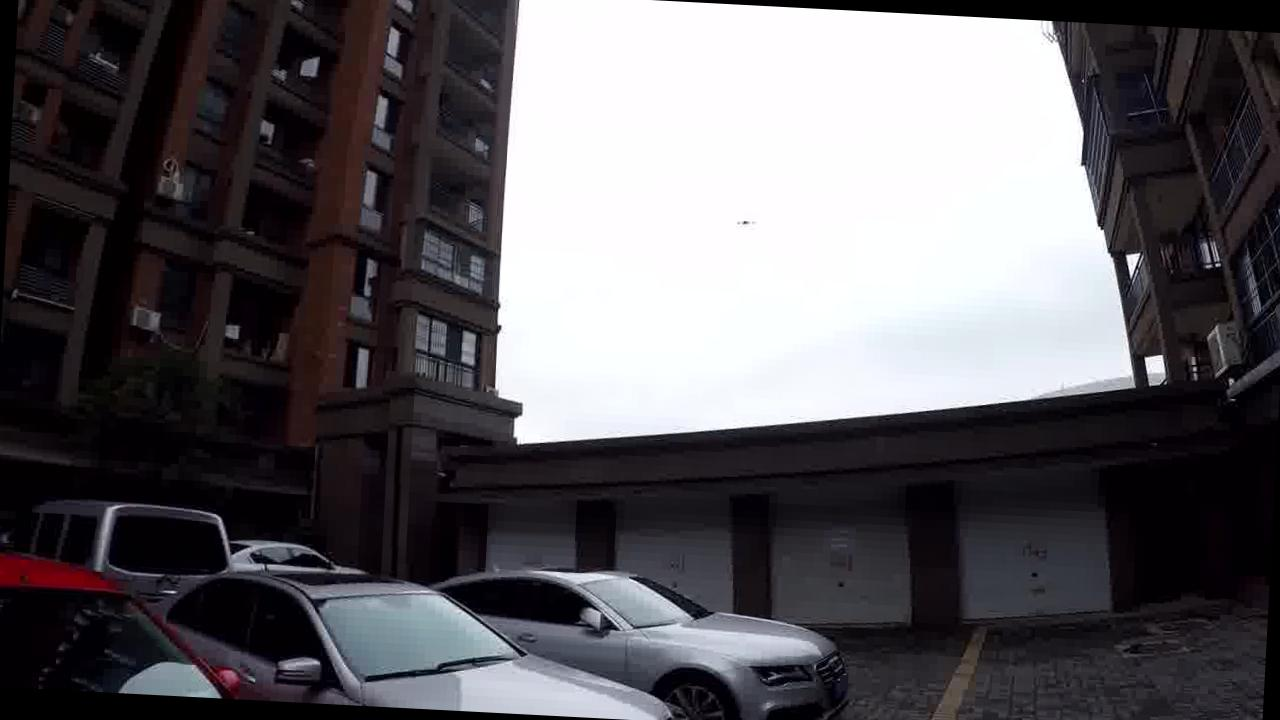drone: (717, 189, 758, 241)
